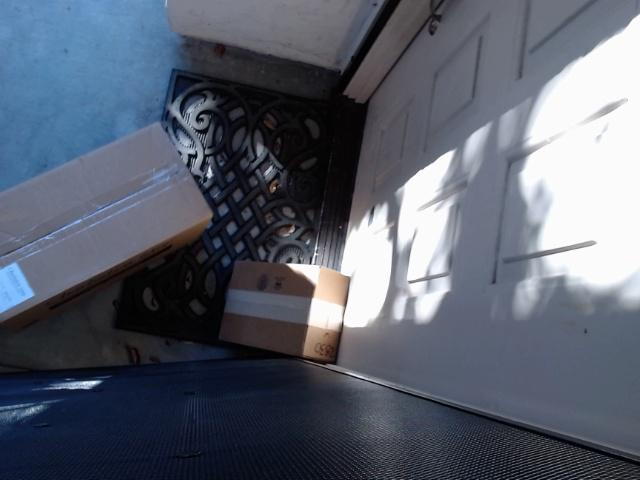box: (0, 122, 213, 333), (217, 260, 351, 364)
